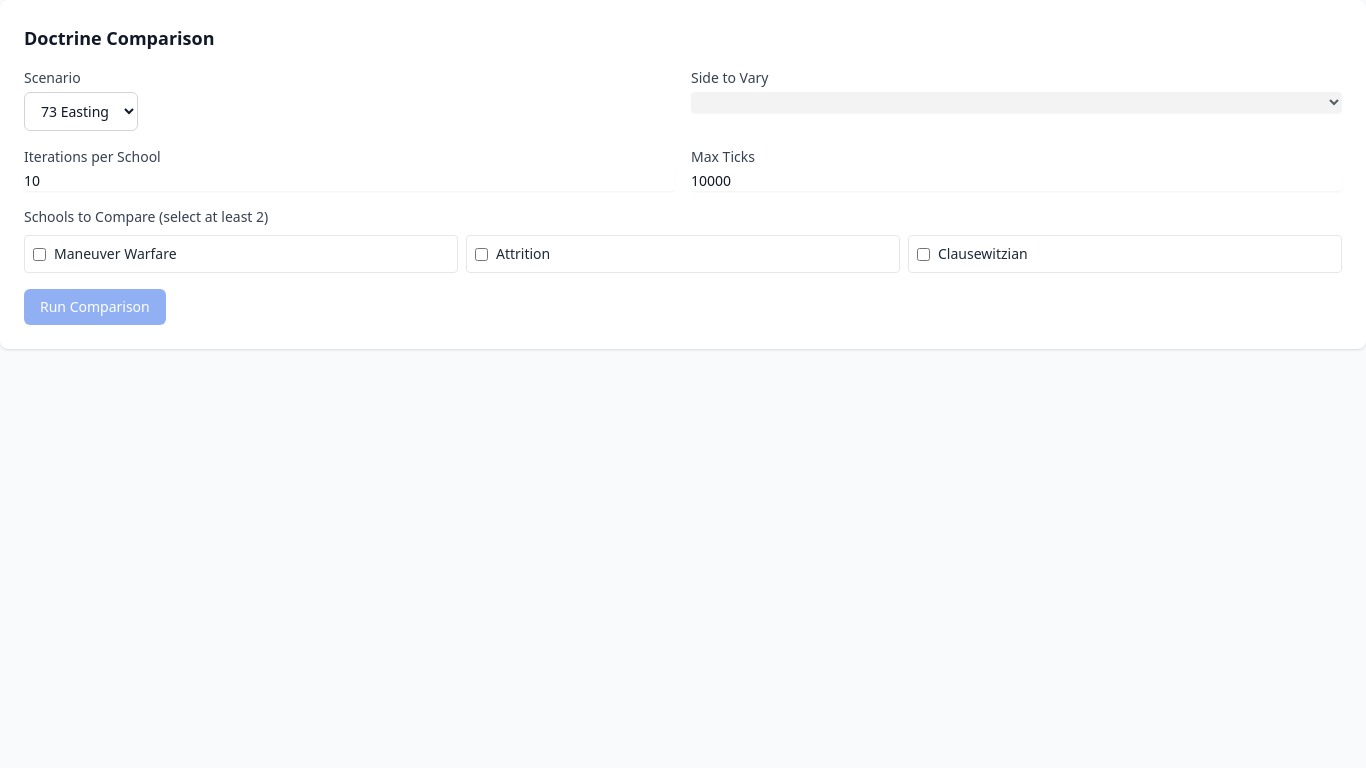
Test: DoctrineComparePanel › submits typed assignments and renders raw vectors with batch provenance
expect the text "Maneuver Warfare" is shown: met, box [54, 244, 177, 264]
Step 1. Select "73 Easting" in the 1st dropdown → (81, 112), box [24, 92, 138, 131]
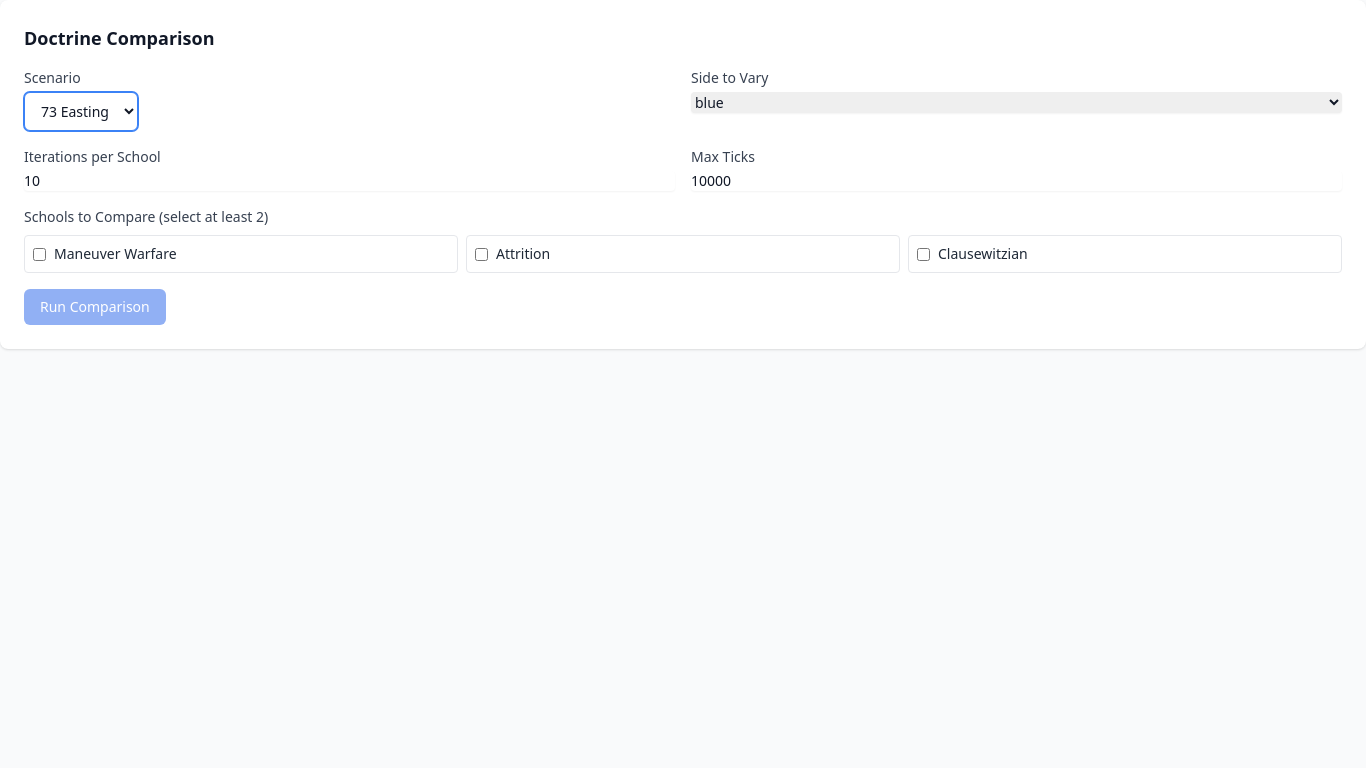
Step 2. Click the checkbox labelled "Maneuver Warfare" → (40, 254), box [33, 248, 46, 260]
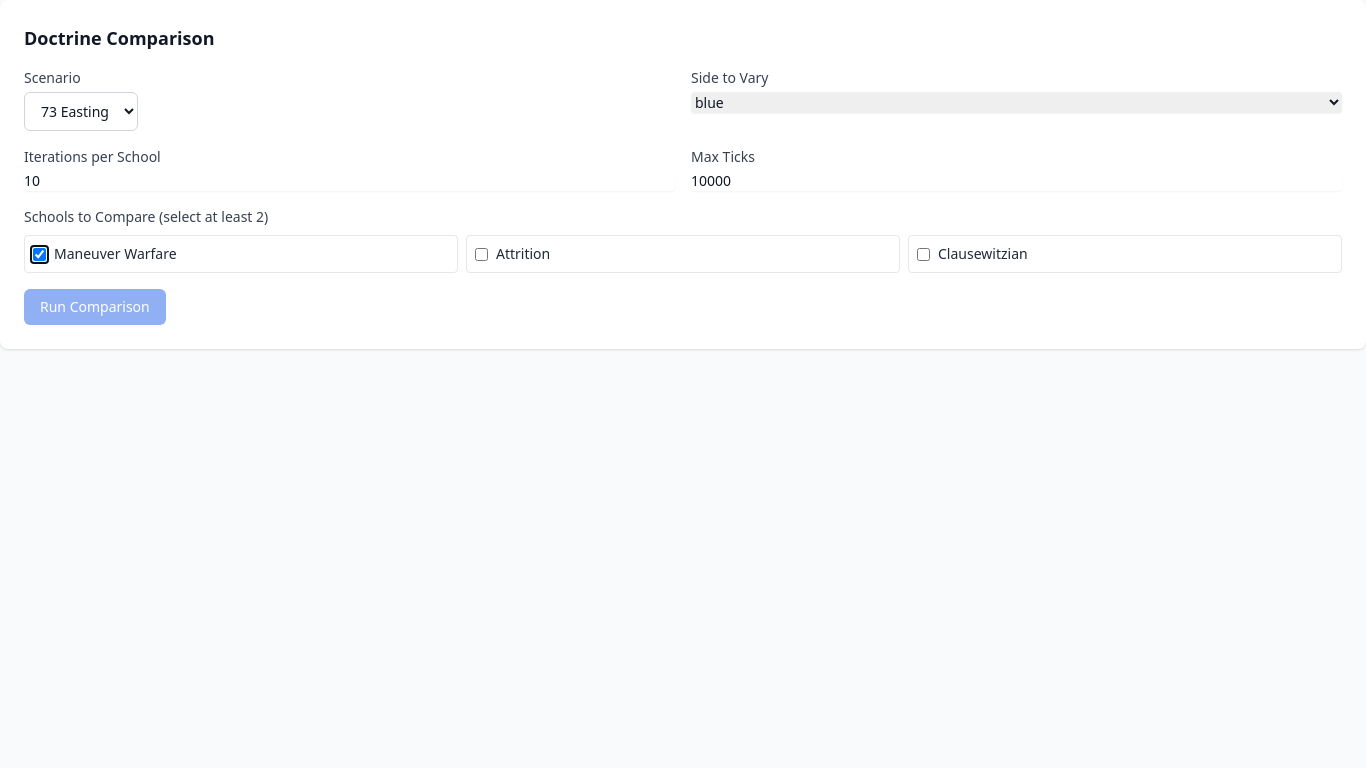
Step 3. Click the checkbox labelled "Attrition" → (482, 254), box [475, 248, 488, 260]
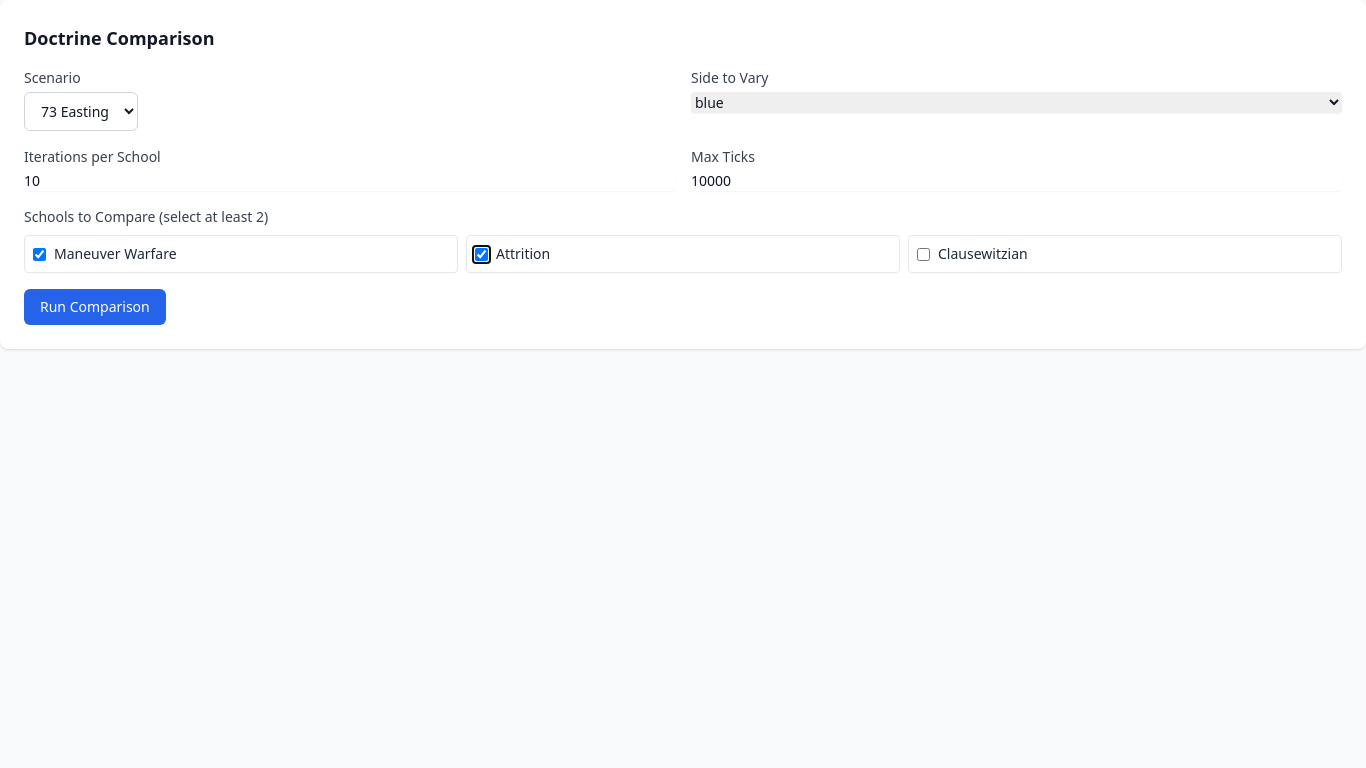
Step 4. Click the button "Run Comparison" → (95, 307), box [24, 289, 166, 325]
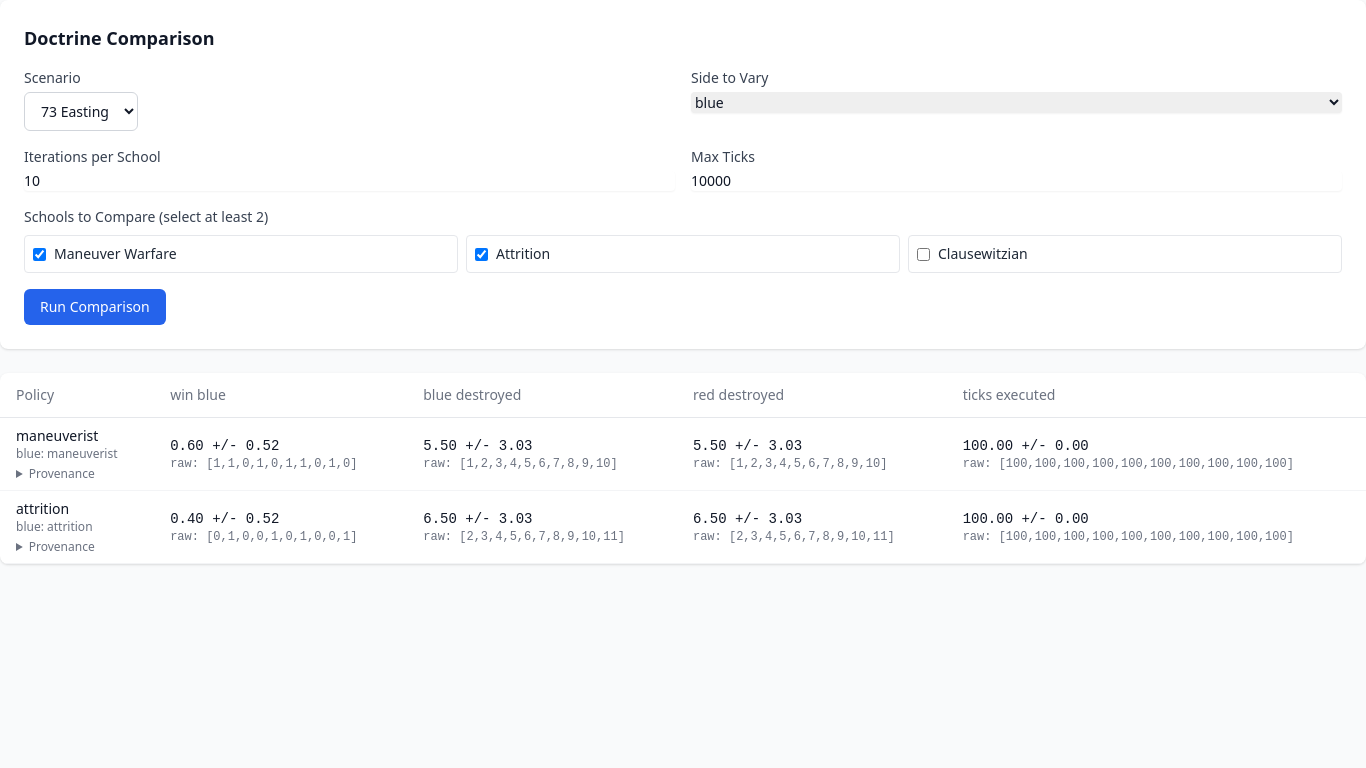
expect the column heading "win blue" is shown: met, box [154, 373, 407, 418]
expect the text "blue: maneuverist" is shown: met, box [16, 445, 118, 462]
expect the text "blue: attrition" is shown: met, box [16, 518, 93, 535]
